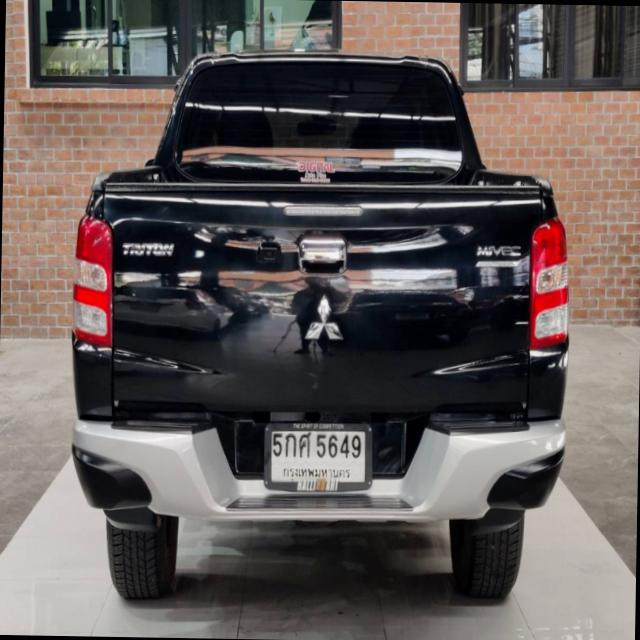license_plate: (263, 422, 374, 492)
